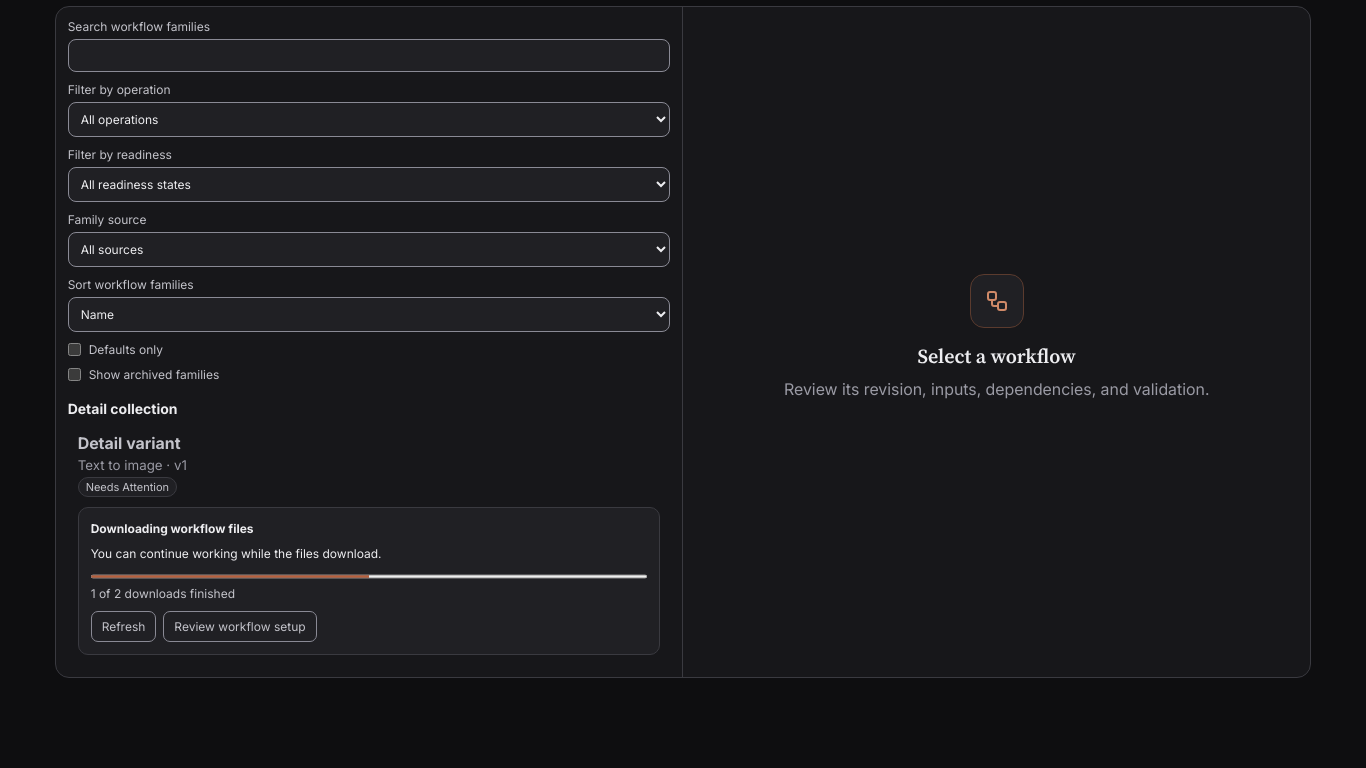
Test case: refreshes an installation from the server without making an install request
(page scrolled)
Expected: the heading "Detail collection" is shown, [68, 400, 178, 417]
Step 1. Click the button with aria-label "Refresh installation status" → (123, 626), box [91, 611, 156, 642]
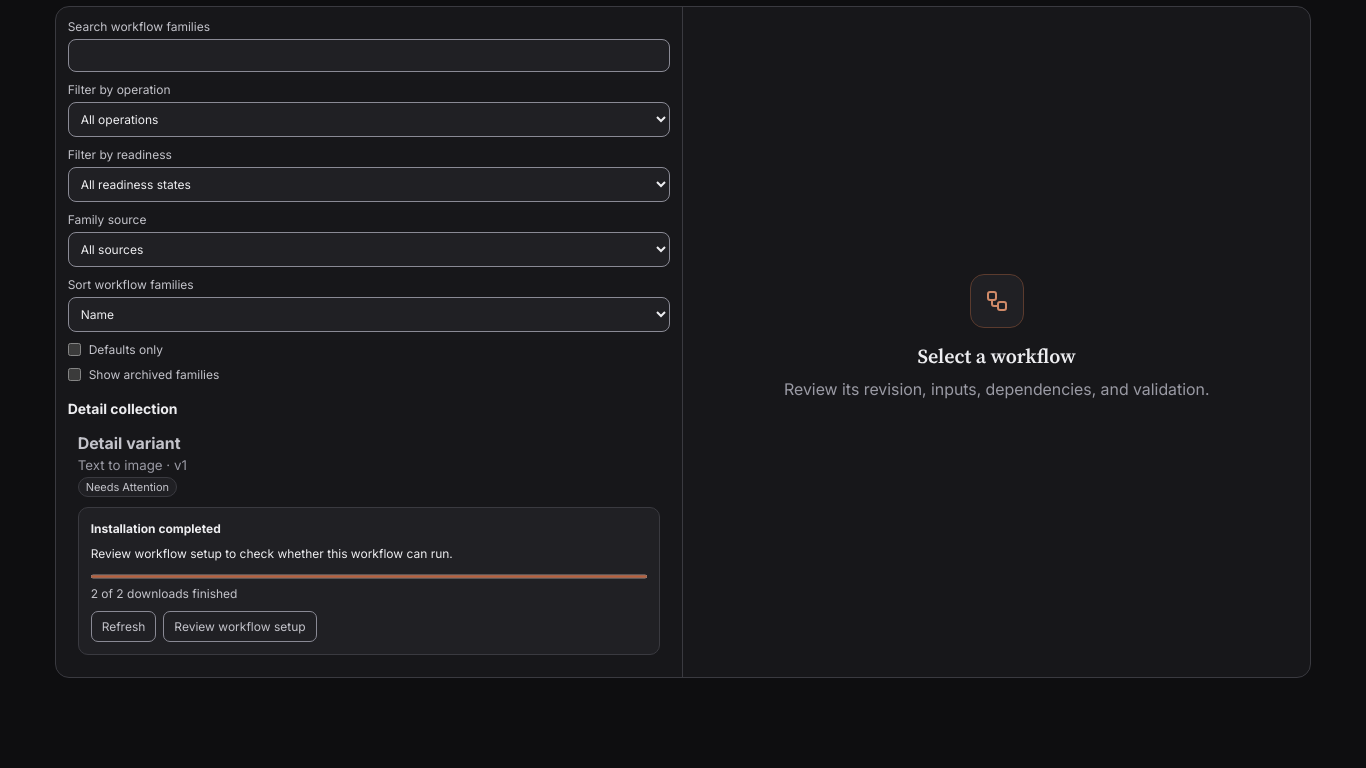
Expected: the message reads "Installation completed", [91, 521, 221, 536]
